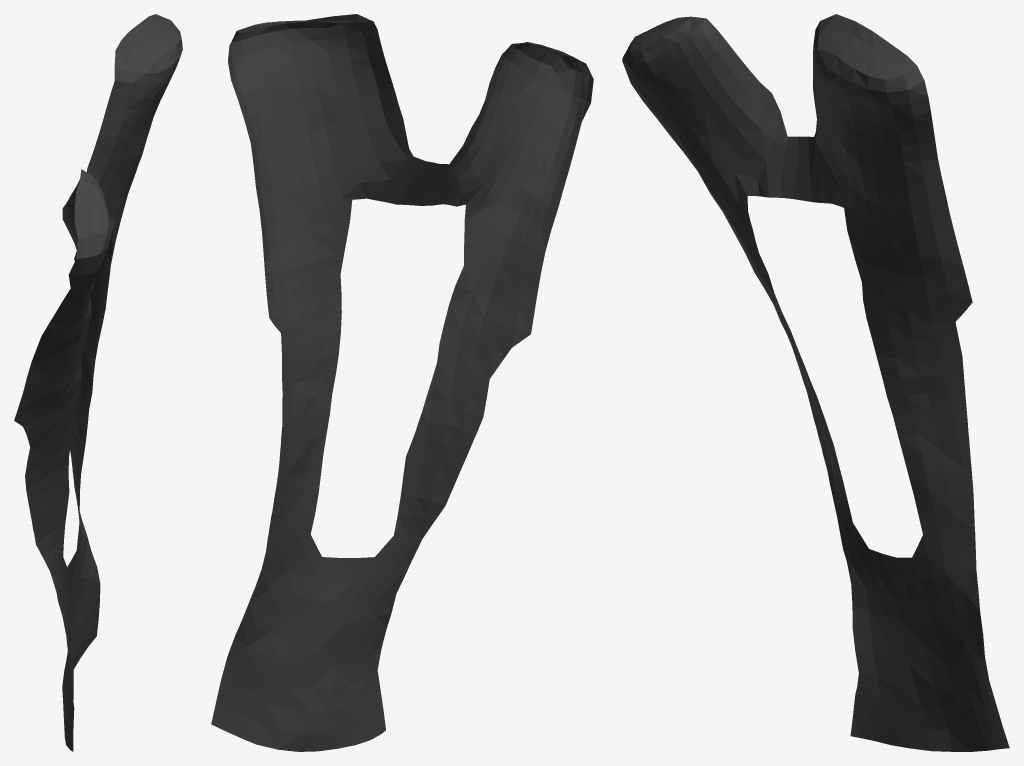
File: eq_dist_limb_Oblique_Sesamoidean_Ligg.glb
The picture shows the model from 3 angles, left to right: view 1: azimuth 30°, elevation 25°; view 2: azimuth 150°, elevation 25°; view 3: azimuth 270°, elevation 25°; orthographic projection. The views are drawn at different scales.
Parts seen in each view (by area): view 1: eq_dist_limb_Oblique_Sesamoidean_Ligg; view 2: eq_dist_limb_Oblique_Sesamoidean_Ligg; view 3: eq_dist_limb_Oblique_Sesamoidean_Ligg.
Boxes of the visible parts, x1,y1,x2,y2 form: eq_dist_limb_Oblique_Sesamoidean_Ligg: [14, 14, 182, 751]; eq_dist_limb_Oblique_Sesamoidean_Ligg: [211, 14, 593, 751]; eq_dist_limb_Oblique_Sesamoidean_Ligg: [622, 14, 1009, 751].
Bounding box in the file's own units: 0.003 × 0.00871 × 0.00411.
1 material, 1 textured.
